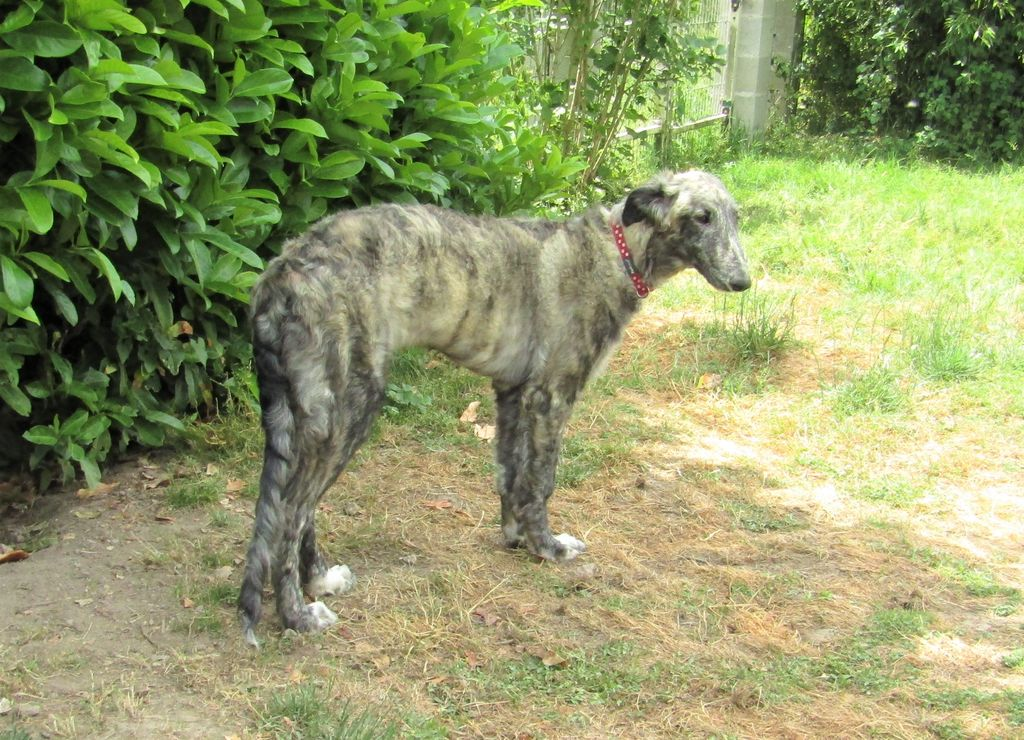borzoi: (215, 148, 760, 660)
